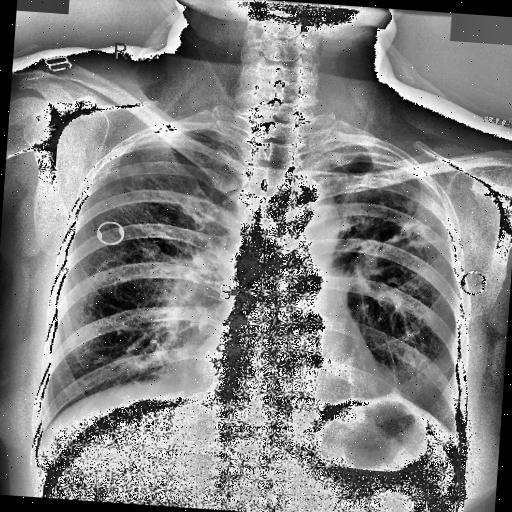11- Pleural thickening: (320, 132, 422, 172), (118, 120, 188, 149), (384, 346, 408, 398)
13- Pulmonary fibrosis: (326, 154, 454, 317), (336, 184, 452, 258), (114, 166, 192, 247), (360, 192, 450, 250), (121, 168, 162, 202), (125, 172, 156, 192)
